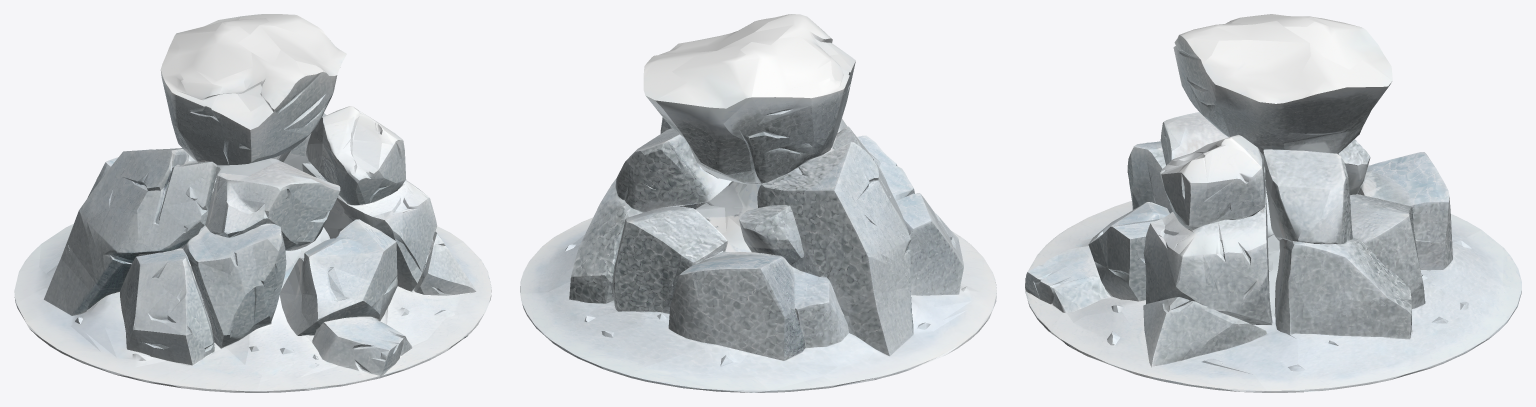
The model's file is cover_half_snow.A.raw.glb.
3 views of the same model, side by side, from view 1: azimuth 30°, elevation 25°; view 2: azimuth 150°, elevation 25°; view 3: azimuth 270°, elevation 25° (orthographic). The views are drawn at different scales.
Bounding box in the file's own units: 1.9 × 1.11 × 1.9.
Materials: 1 (1 with a texture image).
